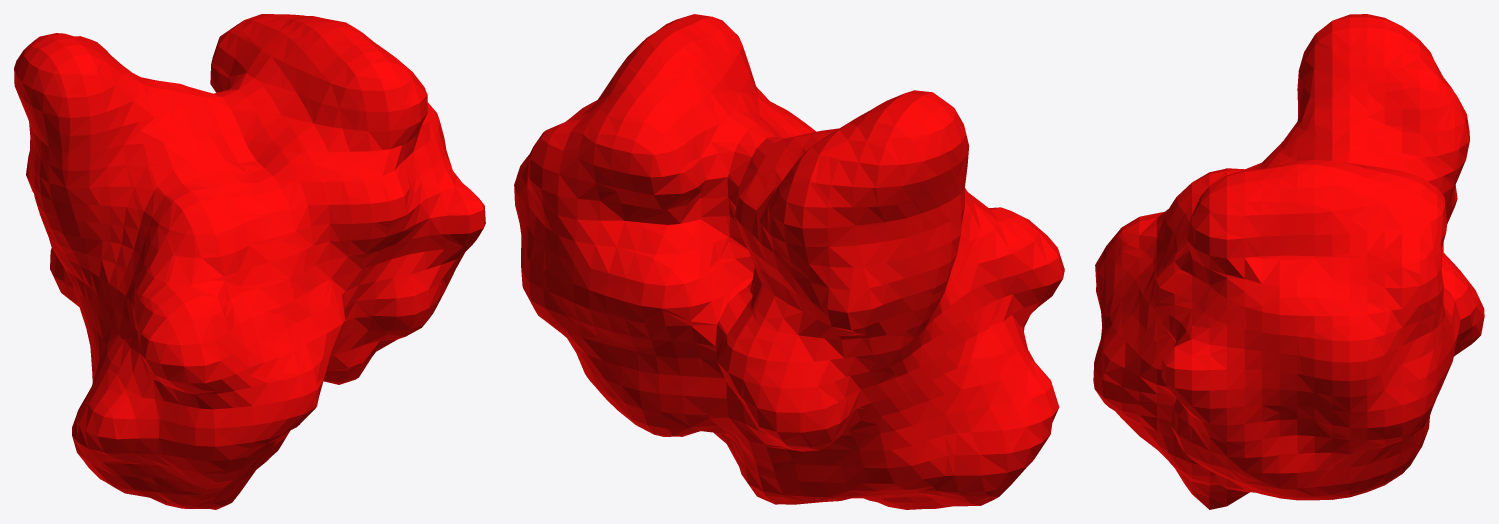
The model's file is usg_coarse.dae.
The picture shows the model from 3 angles, left to right: view 1: azimuth 30°, elevation 25°; view 2: azimuth 150°, elevation 25°; view 3: azimuth 270°, elevation 25°; orthographic projection. The views are drawn at different scales.
Visible parts, largest first — view 1: usg; view 2: usg; view 3: usg.
Part boxes in pixels (<box>): usg: <box>14,14,485,509</box>; usg: <box>514,14,1064,509</box>; usg: <box>1093,14,1484,509</box>.
Bounding box in the file's own units: 59.28 × 60.4 × 47.97.
